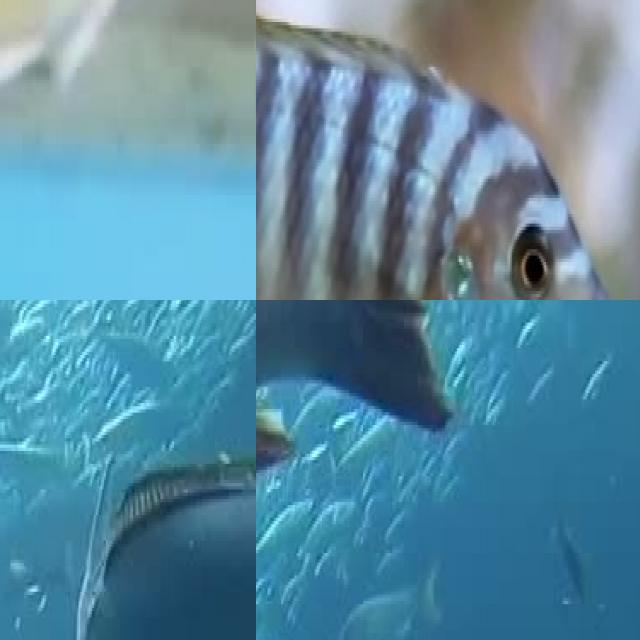fish: (256, 0, 616, 300), (0, 0, 256, 300)
